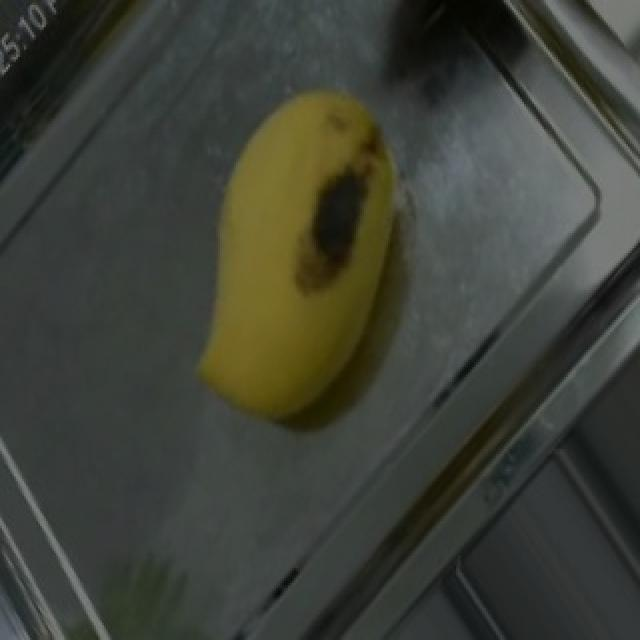fruit: (148, 44, 444, 447)
